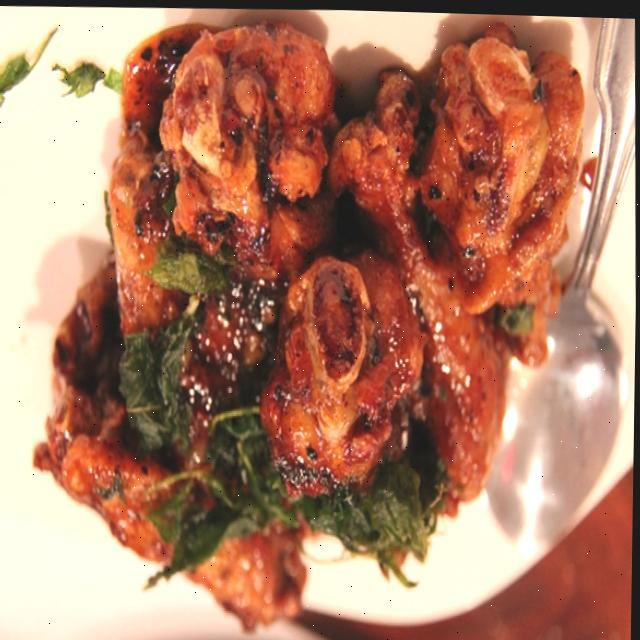鸡肉料理 含炸鸡: (22, 2, 620, 640)
